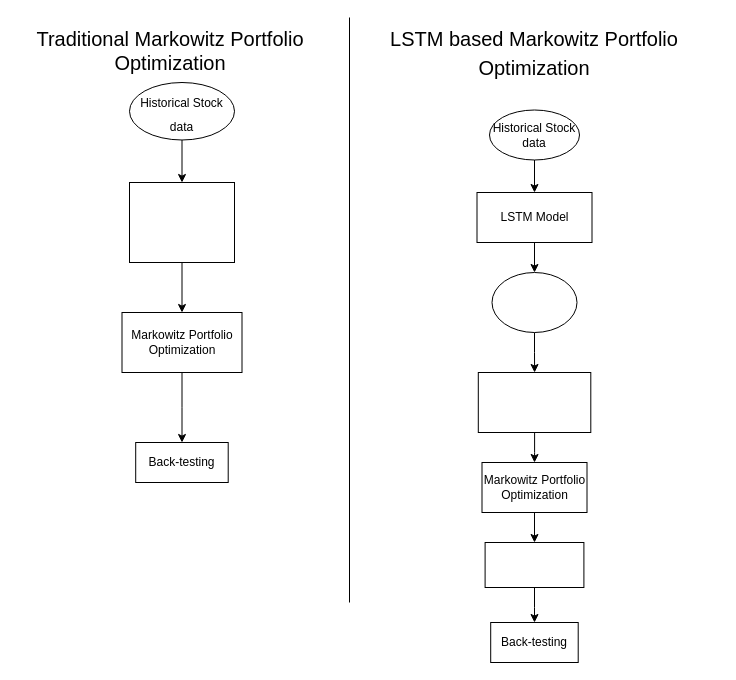
This 736x680 diagram has some shape labels left out. Each missing label, with the box of its shape:
Extract historical mean and standard deviation: (128, 182, 234, 262)
Predicted Stock data of next 2 months: (491, 272, 577, 332)
Random sampling with size of 20 random stocks 10 times (10 portfolios): (477, 372, 591, 432)
Weight adjustment: (484, 542, 584, 588)
